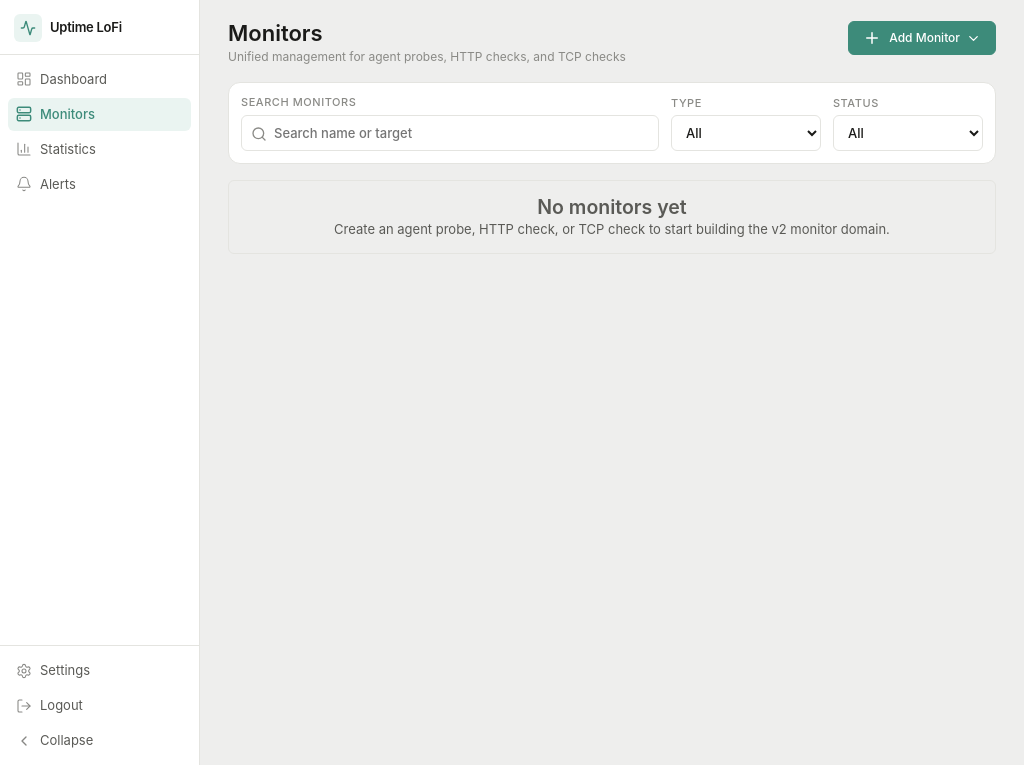
Test: Monitors page › creates an Agent Probe and shows the install command in the Add Monitor flow
Click the button "Monitors". click: {"x": 100, "y": 114}
box: [8,98,191,131]
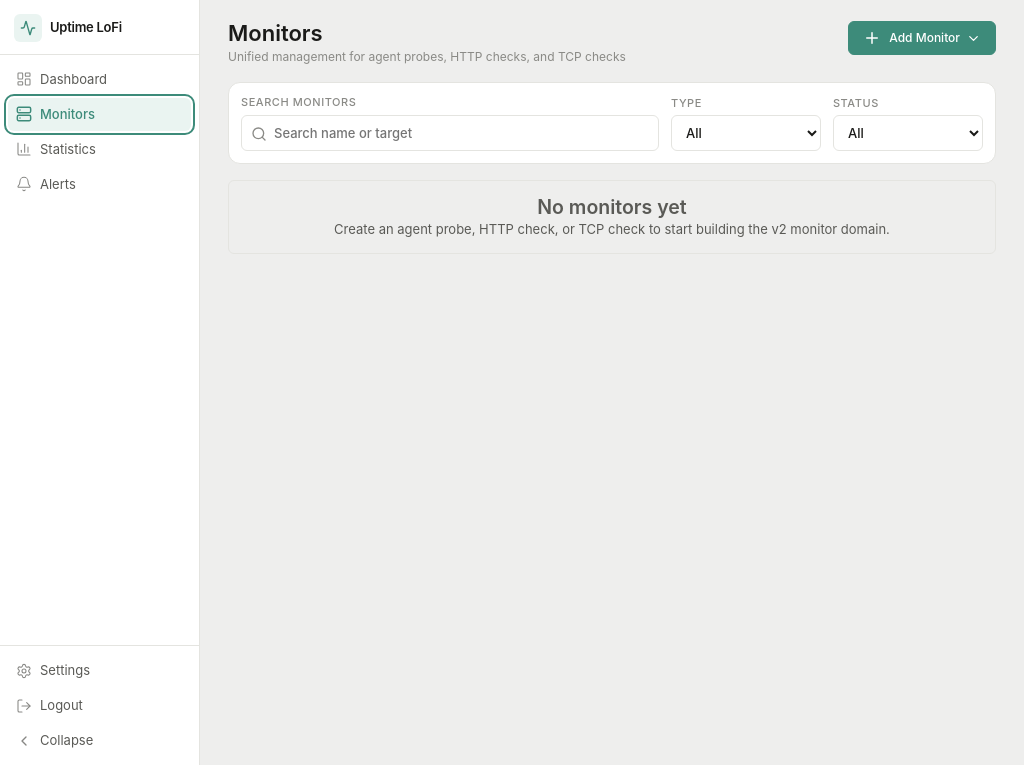
Click the button "Add Monitor". click: {"x": 922, "y": 38}
box: [848,21,996,55]
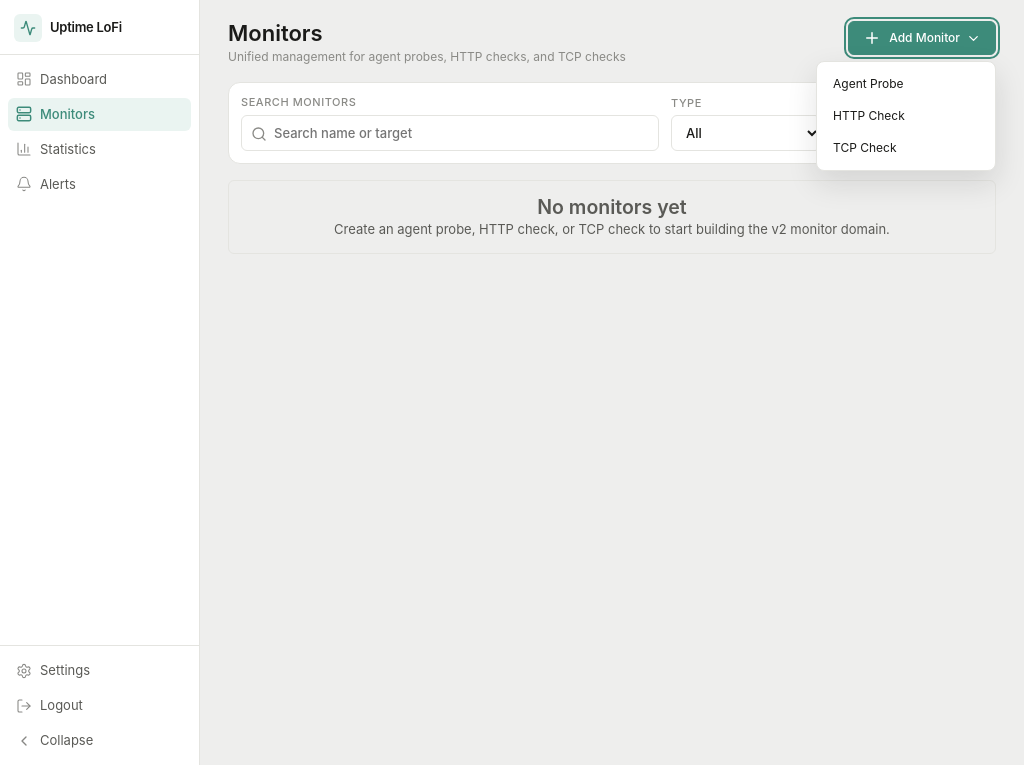
Click the menu item "Agent Probe". click: {"x": 906, "y": 84}
box: [823,68,989,100]
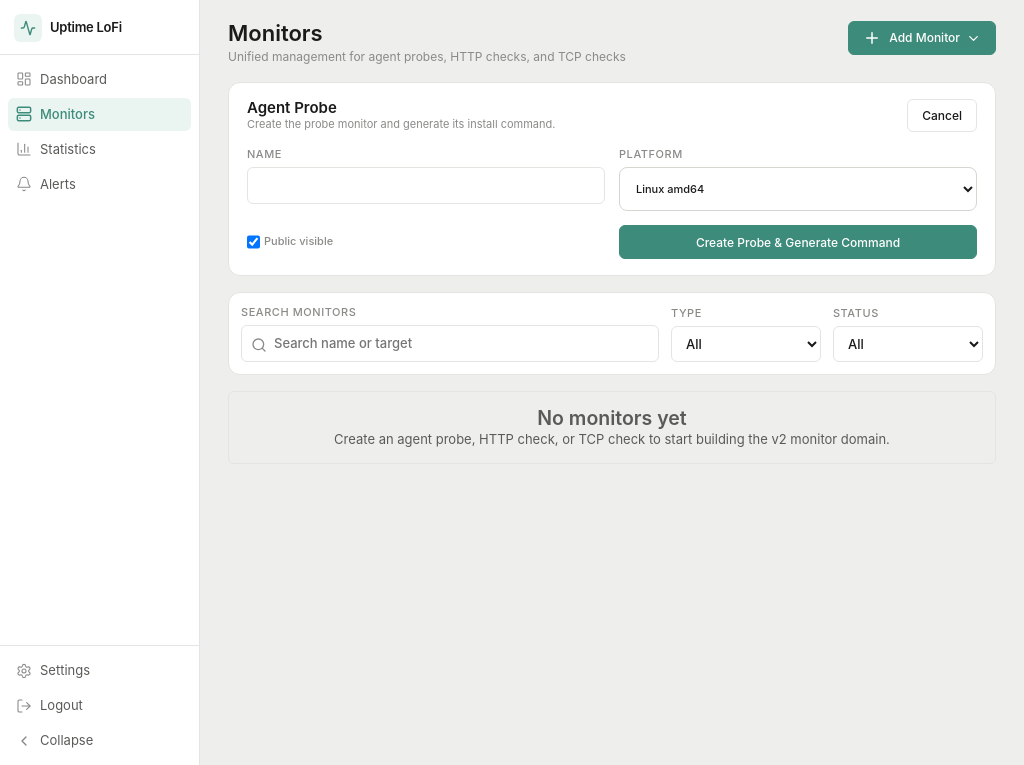
Type "prod-vps-1" into the field labelled "Name". click: {"x": 426, "y": 186}
box: [247,167,605,204]
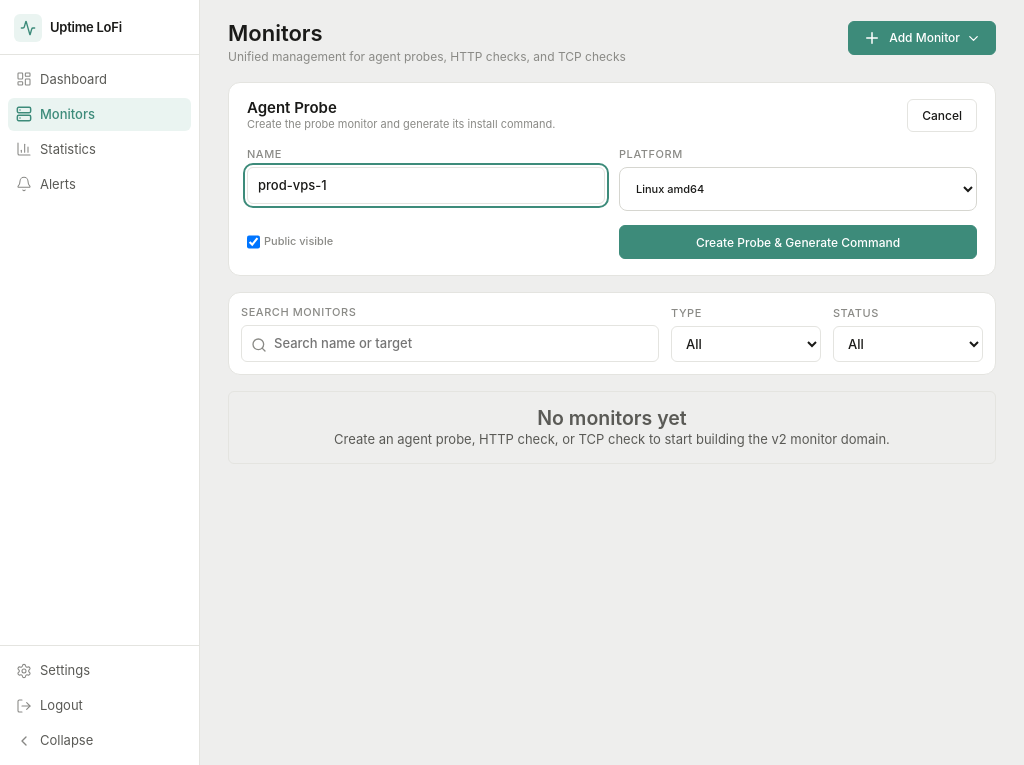
Select "Linux arm64" in the dropdown labelled "Platform". click: {"x": 798, "y": 189}
box: [619,167,977,211]
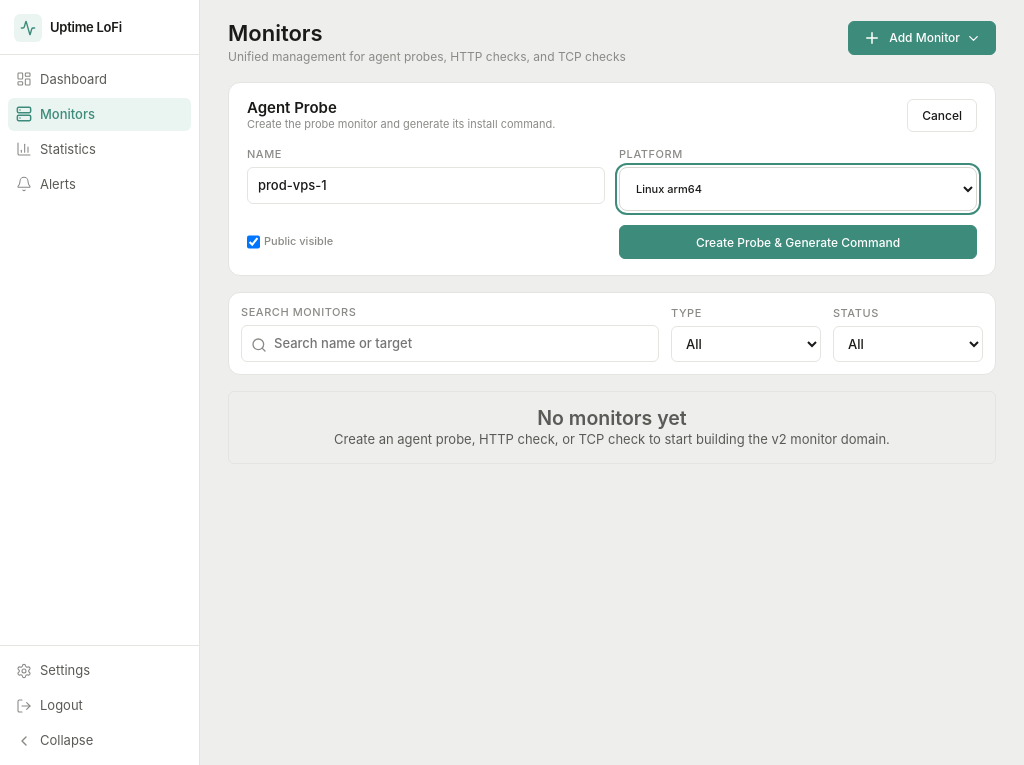
Click the button "Create Probe & Generate Command". click: {"x": 798, "y": 242}
box: [619,225,977,259]
(page scrolled)
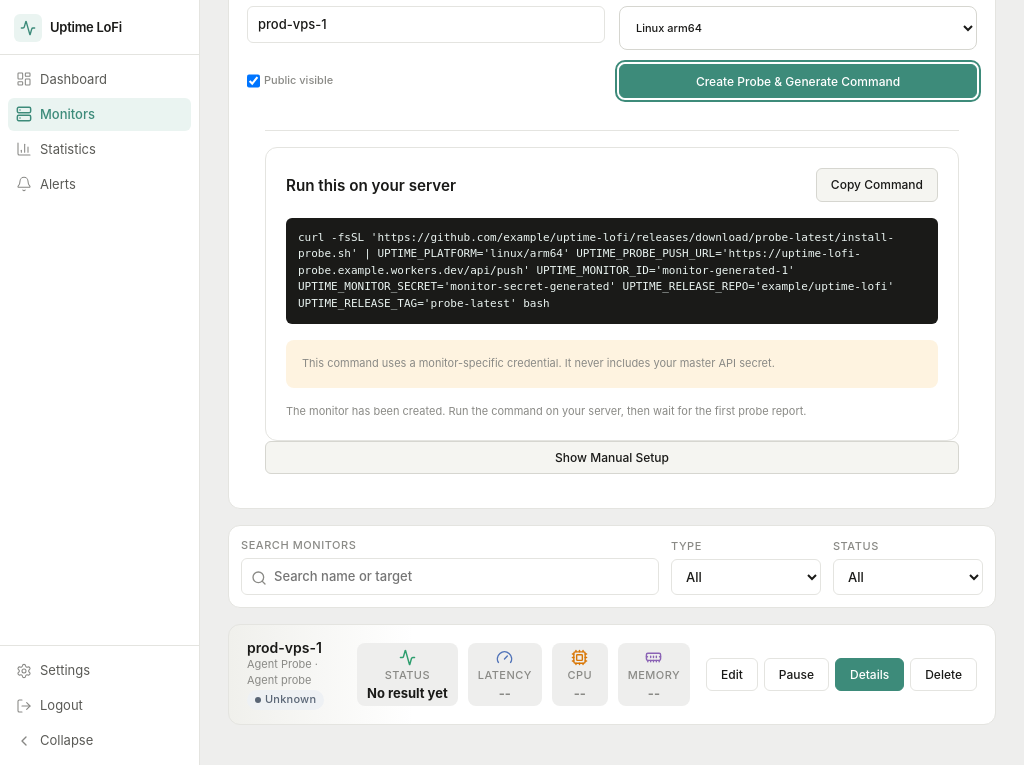
Now the heading "Run this on your server" is shown, box [286,176,456,194]
Now the text with test id "probe-install-command" shows "UPTIME_PLATFORM='linux/arm64'", box [298,231,901,310]
Now the text with test id "probe-install-command" shows "UPTIME_MONITOR_ID='monitor-generated-1'", box [298,231,901,310]
